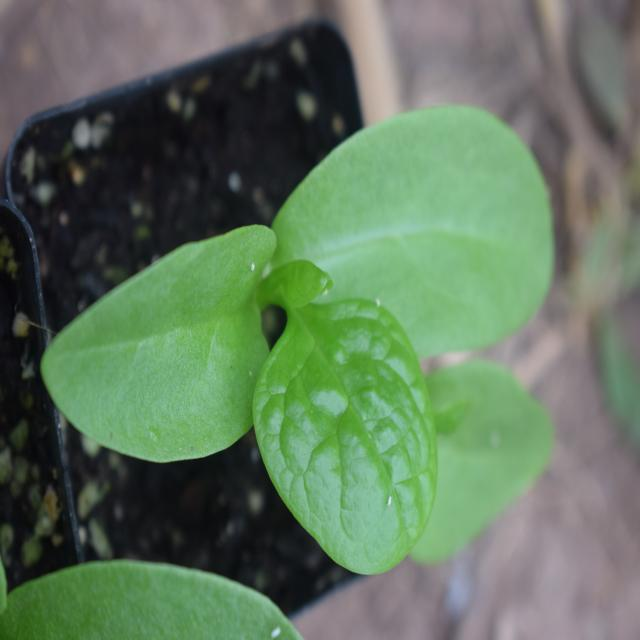Ceylon spinach: (84, 99, 569, 605)
